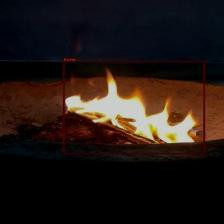fire: (63, 61, 205, 154)
